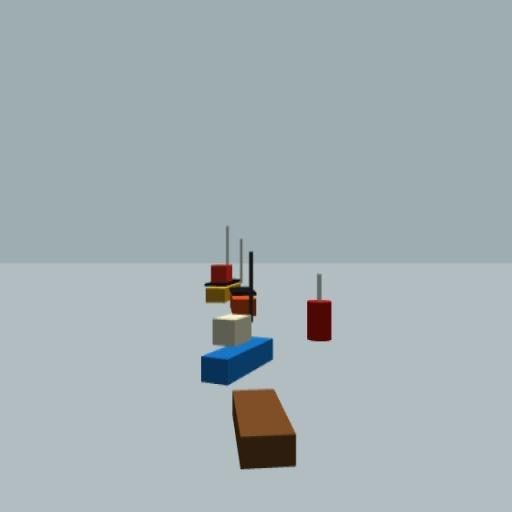debris_container: (231, 388, 297, 473)
fishing_boat: (201, 254, 273, 383)
floating_obstacle: (306, 272, 332, 344)
vessel: (204, 226, 242, 303)
